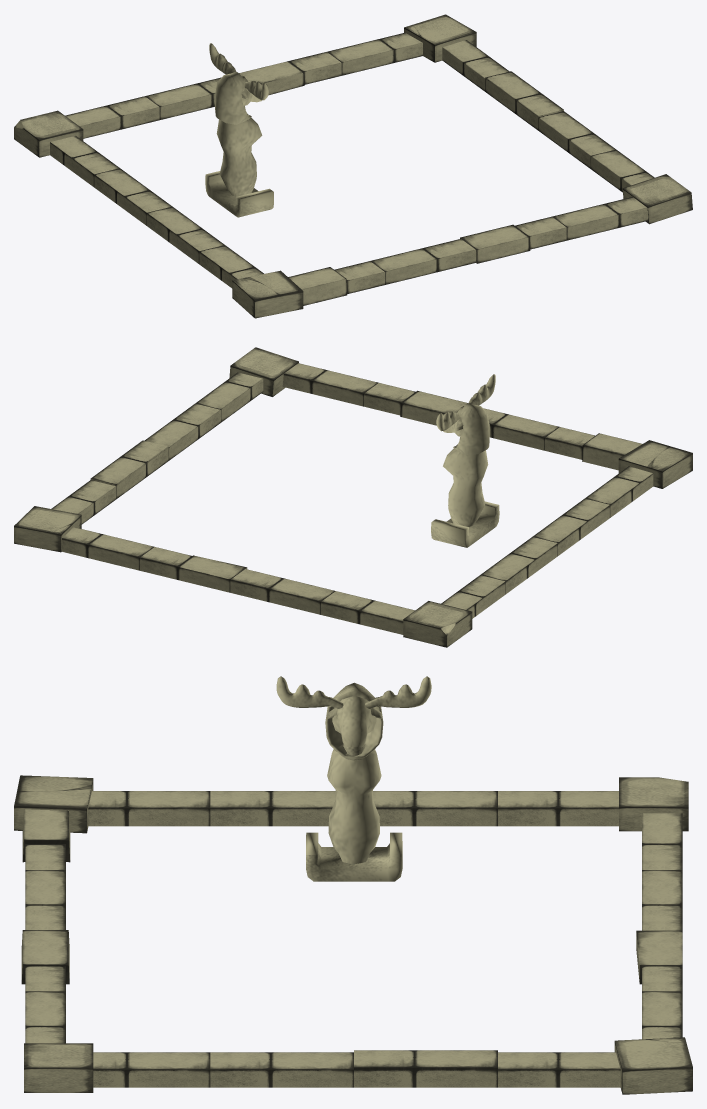
File: Pond.FBX
3 views of the same model, one above another, from view 1: azimuth 30°, elevation 25°; view 2: azimuth 150°, elevation 25°; view 3: azimuth 270°, elevation 25° (orthographic). The views are drawn at different scales.
Parts seen in each view (by area): view 1: Box030; view 2: Box030; view 3: Box030.
Part boxes in pixels (x1,y1,x2,y2): Box030: (14, 14, 692, 318); Box030: (14, 347, 692, 647); Box030: (14, 676, 692, 1094).
Bounding box in the file's own units: 296 × 92.68 × 288.
